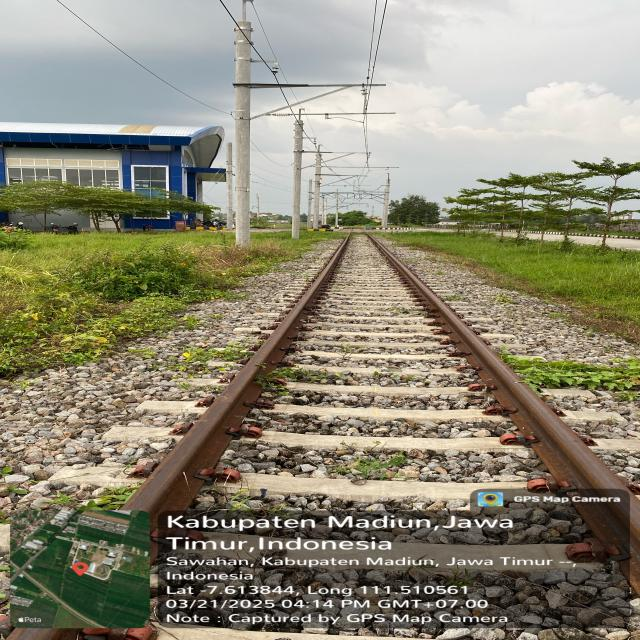rail-detection: (369, 236, 640, 594), (125, 236, 349, 520)
